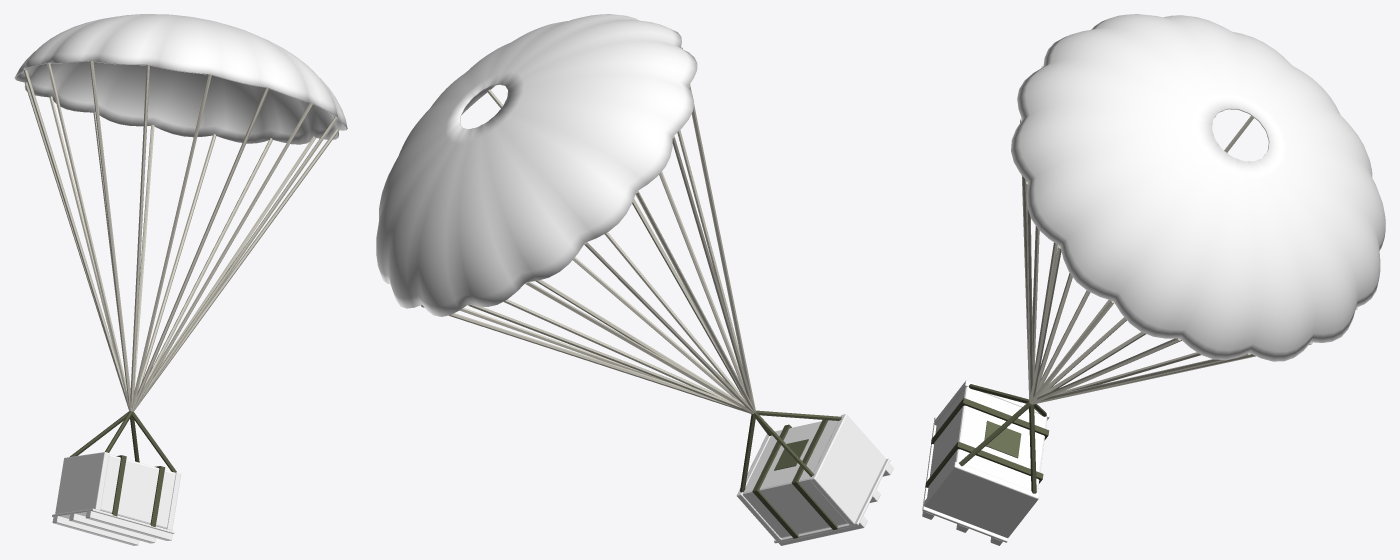
The model's file is supply-drop.glb.
3 views of the same model, side by side, from view 1: azimuth 30°, elevation 25°; view 2: azimuth 150°, elevation 25°; view 3: azimuth 270°, elevation 25° (orthographic). The views are drawn at different scales.
Visible parts, largest first — view 1: Canopy, HangBody, HangBatten, Line9, Line12, Line10, Line7, Line11, Line14, Line13, Line8, Line15 (+11 smaller); view 2: Canopy, HangBody, HangBatten, Line9, Line3, Line4, Line8, Line5, Line7, Line12, Line6, Line1 (+10 smaller); view 3: Canopy, HangBody, HangBatten.001, Line1, Line13, HangStrap, HangStrap.001, HangStencil, Line0, Line14, HangDeck, Line3 (+5 smaller).
Part boxes in pixels (x1,y1,x2,y2): Canopy: (14, 14, 347, 144); HangBody: (56, 454, 175, 528); HangBatten: (55, 452, 109, 513); Line9: (89, 60, 130, 410); Line12: (132, 87, 269, 411); Line10: (130, 64, 149, 410); Line7: (24, 70, 129, 410); Line11: (131, 74, 211, 411); Line14: (133, 116, 337, 411); Line13: (133, 102, 313, 411); Line8: (47, 62, 129, 410); Line15: (134, 128, 338, 410); Canopy: (376, 14, 697, 316); HangBody: (742, 418, 861, 538); HangBatten: (810, 414, 886, 524); Line9: (688, 85, 755, 411); Line3: (421, 305, 752, 414); Line4: (468, 304, 752, 413); Line8: (672, 136, 755, 411); Line5: (525, 281, 753, 413); Line7: (635, 191, 755, 412); Line12: (659, 171, 746, 392); Line6: (584, 242, 754, 413); Line1: (503, 299, 728, 400); Canopy: (1011, 14, 1385, 361); HangBody: (927, 387, 1047, 514); HangBatten.001: (924, 462, 1039, 538); Line1: (1032, 353, 1250, 404); Line13: (1026, 181, 1033, 402); HangStrap: (931, 398, 1049, 444); HangStrap.001: (925, 441, 1043, 487); HangStencil: (984, 420, 1021, 458); Line0: (1031, 338, 1180, 404); Line14: (1029, 245, 1061, 402); HangDeck: (922, 417, 1007, 542); Line3: (1055, 307, 1357, 394).
Bounding box in the file's own units: 6.29 × 8.16 × 6.11.
